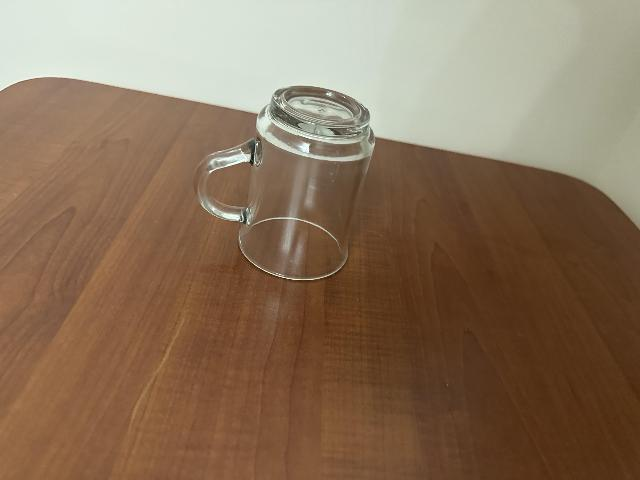Cam: (190, 78, 377, 285)
